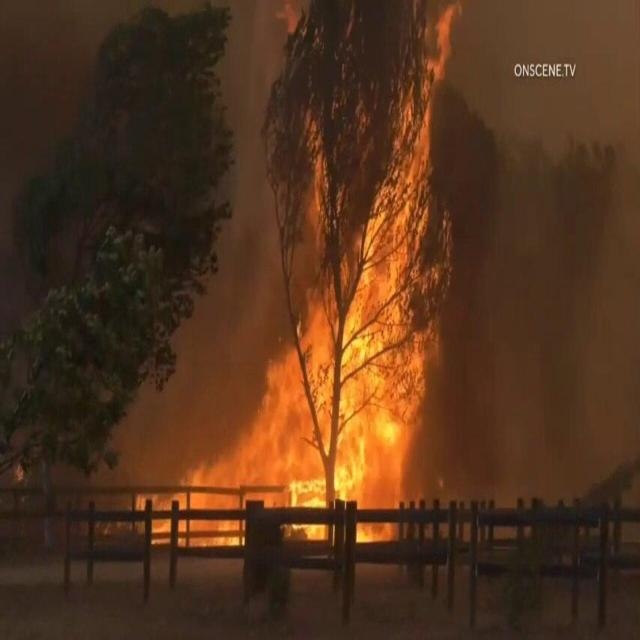fire: (289, 344, 431, 504), (358, 242, 418, 408), (247, 397, 345, 492)
